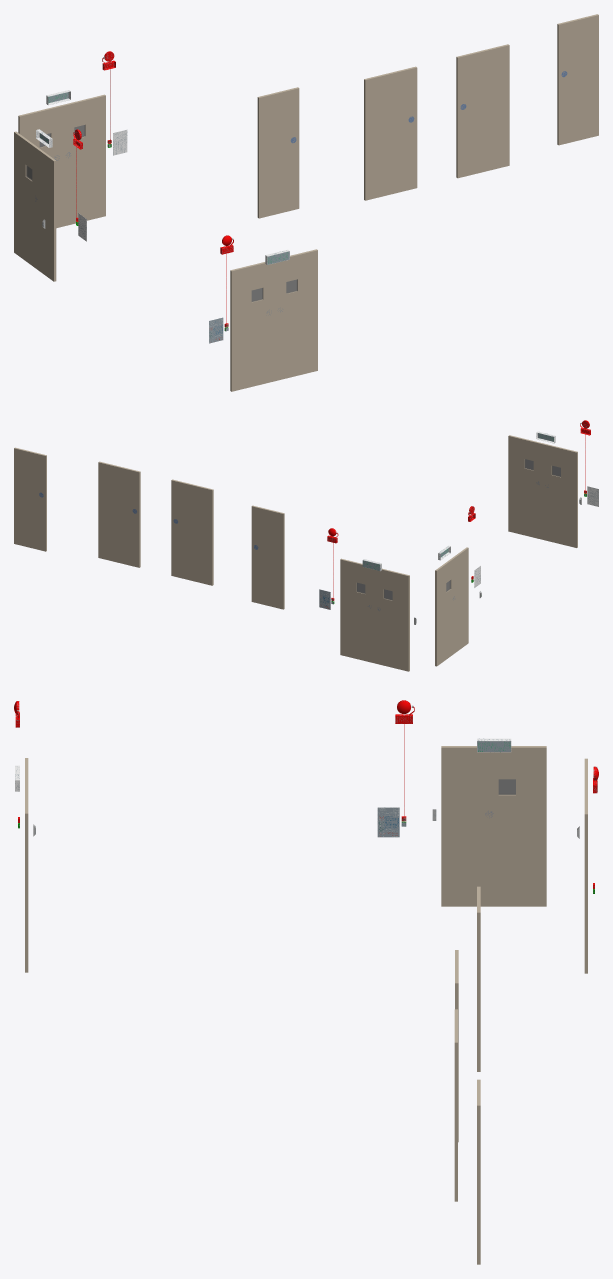
The model's file is floor_doors.fbx.
3 renders of one model, top to bottom at view 1: azimuth 30°, elevation 25°; view 2: azimuth 150°, elevation 25°; view 3: azimuth 270°, elevation 25°, orthographic. The views are drawn at different scales.
Visible parts, largest first — view 1: Group2, Group4, Group16, Group17, Group5, Group7, Group3, Group19, Group_57_1, Group8, Group_51_1, internal_emergency_exit_single_door_1_1; view 2: Group2, Group4, Group16, Group8, Group17, Group7, Group5, Group3, Group19, Group_57_1, internal_emergency_exit_single_door_1_1, Group_51_1; view 3: Group19, Group_57_1, Group2, Group7, Group17, Group3, Group5.
Part boxes in pixels (box(x1,y1,x2,y2)): Group2: box(456, 44, 509, 178); Group4: box(364, 66, 417, 200); Group16: box(230, 262, 274, 391); Group17: box(274, 249, 317, 381); Group5: box(257, 87, 299, 218); Group7: box(61, 94, 105, 226); Group3: box(557, 14, 598, 145); Group19: box(14, 131, 40, 270); Group_57_1: box(36, 129, 86, 281); Group8: box(18, 105, 62, 228); Group_51_1: box(46, 90, 127, 155); internal_emergency_exit_single_door_1_1: box(209, 249, 289, 343); Group2: box(98, 461, 140, 567); Group4: box(171, 479, 213, 585); Group16: box(542, 443, 577, 547); Group8: box(374, 568, 409, 671); Group17: box(508, 435, 543, 539); Group7: box(340, 558, 374, 663); Group5: box(251, 505, 284, 609); Group3: box(14, 447, 46, 551); Group19: box(435, 556, 456, 666); Group_57_1: box(438, 545, 480, 651); internal_emergency_exit_single_door_1_1: box(536, 431, 598, 506); Group_51_1: box(319, 559, 381, 609); Group19: box(481, 746, 546, 906); Group_57_1: box(377, 738, 511, 906); Group2: box(454, 1009, 457, 1201); Group7: box(584, 786, 587, 973); Group17: box(25, 786, 28, 972); Group3: box(477, 1079, 480, 1264); Group5: box(477, 886, 480, 1071).
Size of the model in its own units: 9.93 by 2.66 by 6.66.
